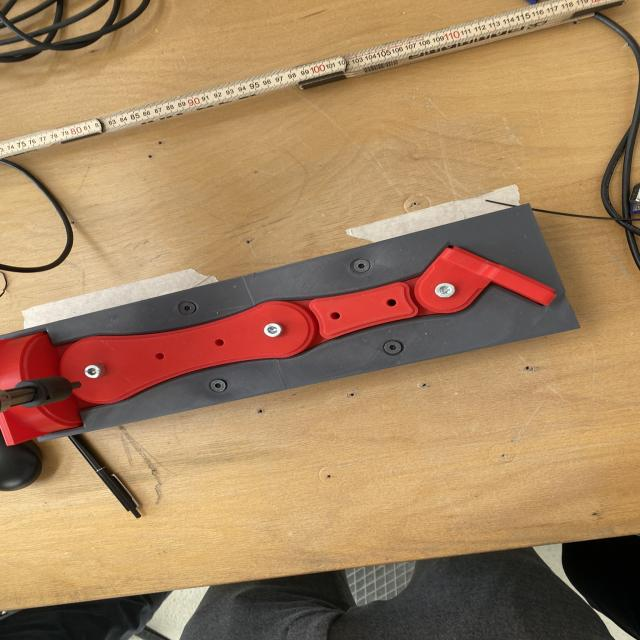HexScrew: (435, 282, 455, 297), (384, 340, 404, 355), (264, 323, 283, 337), (83, 365, 102, 377), (211, 379, 227, 392), (353, 260, 370, 272), (179, 302, 195, 314)
